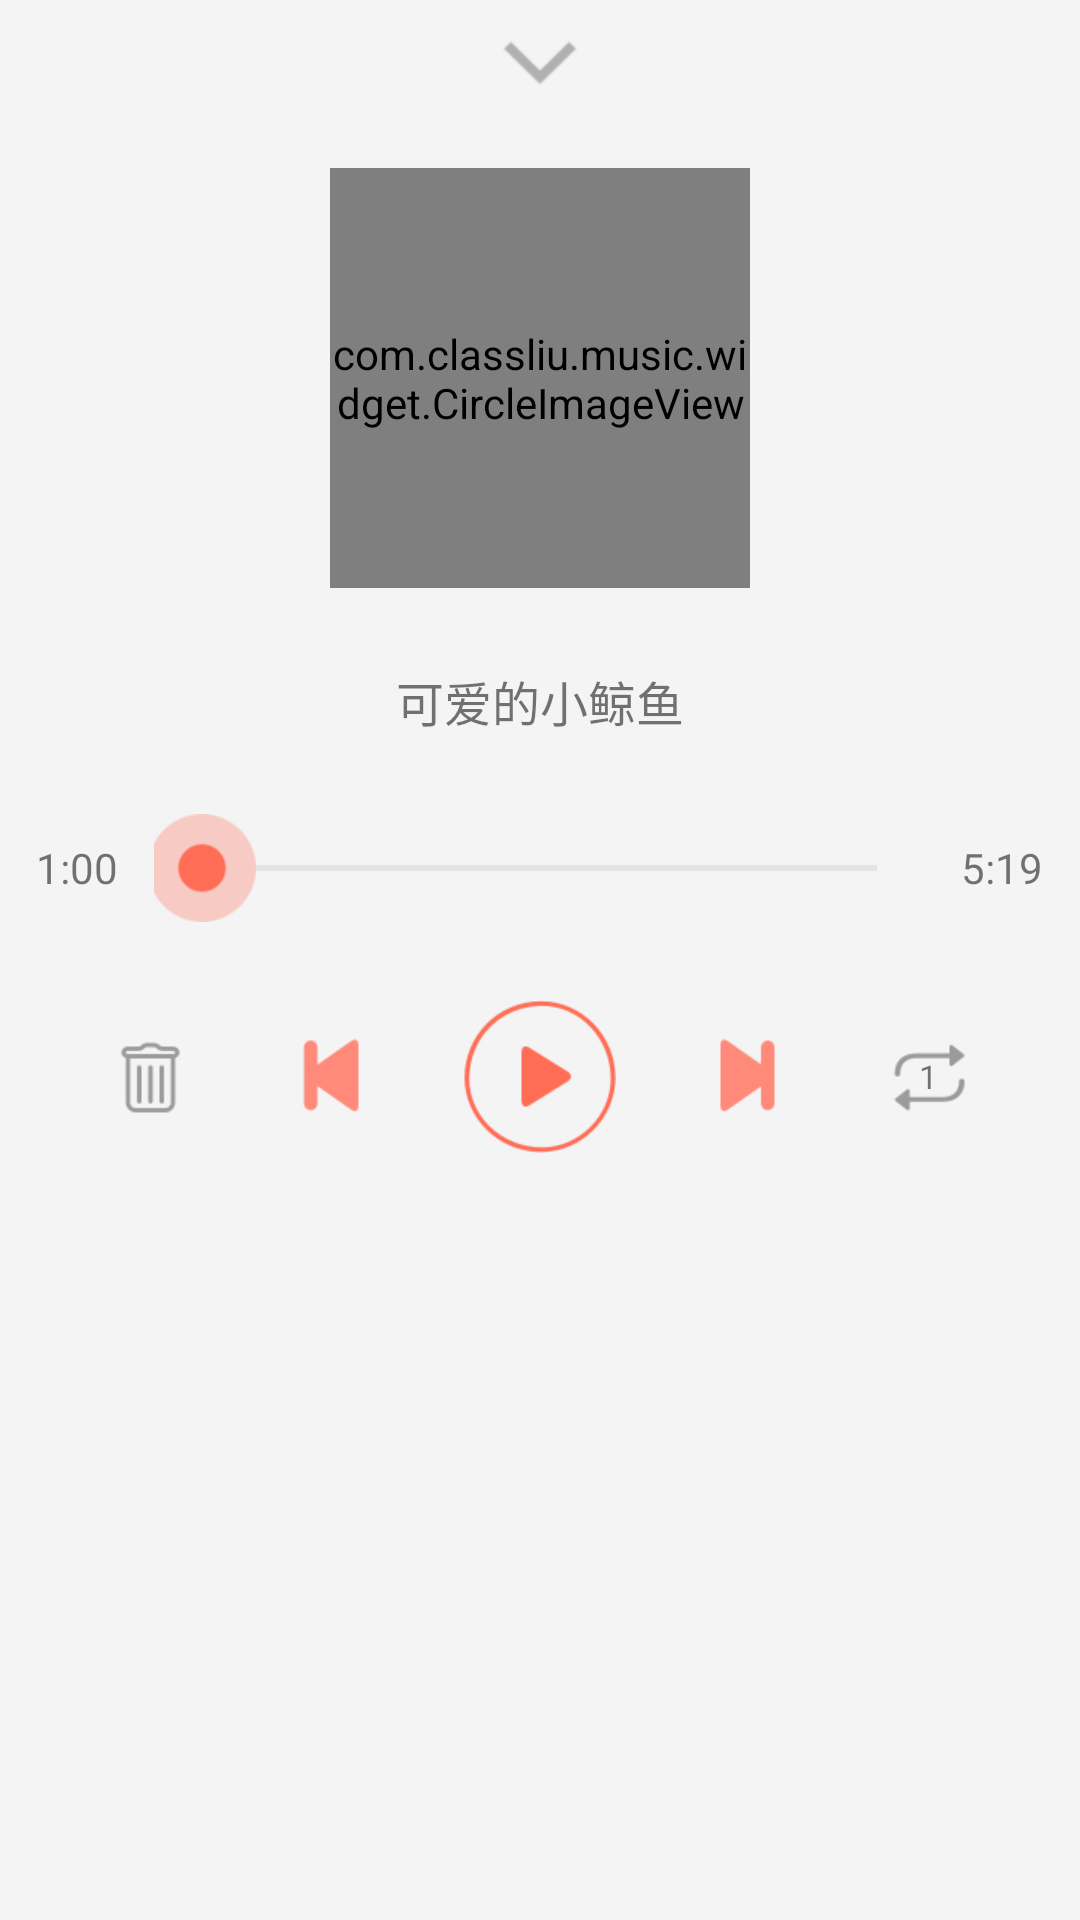

Icons on this 1080w x 1920h Android screen, each with the point to tap as [x,y]:
detail more down: [540,63]
music delete: [150,1077]
music next: [747,1075]
music playing: [540,1077]
music previous: [331,1075]
music repeatmode: [929,1078]
